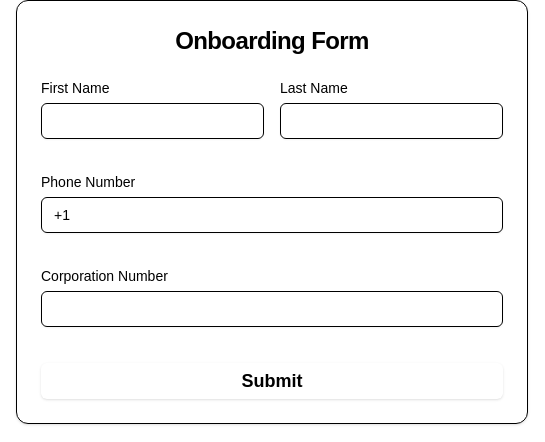
Scenario: OnboardingForm › validates phone number format
Replace the text in the field labelled "Phone Number" with "invalid" at (272,215), box [41,197,503,233]
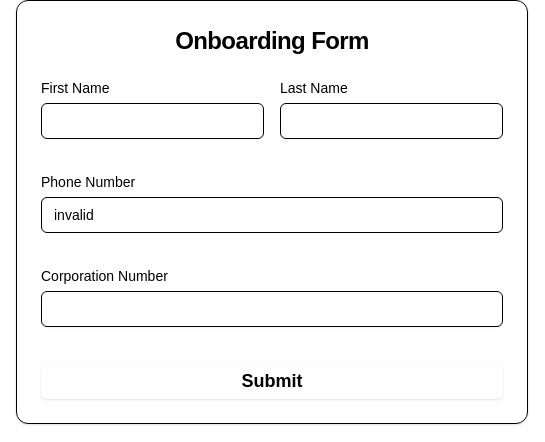
Leave the field labelled "Phone Number", box [41,197,503,233]
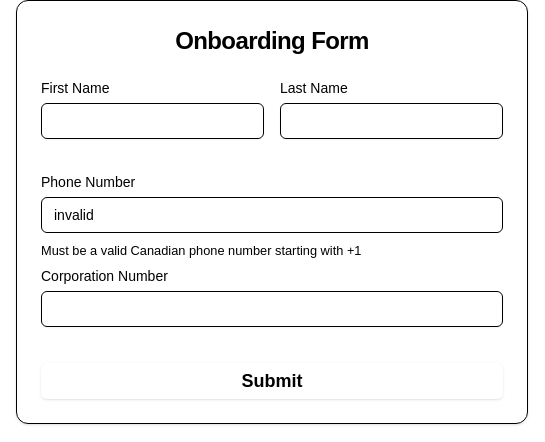
Result: the text "Must be a valid Canadian phone number starting with +1" is shown at [41,243,362,258]
